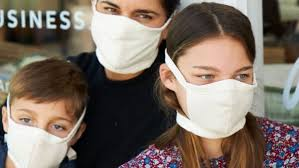mask: (166, 2, 259, 143), (1, 58, 88, 168), (90, 1, 162, 78)
